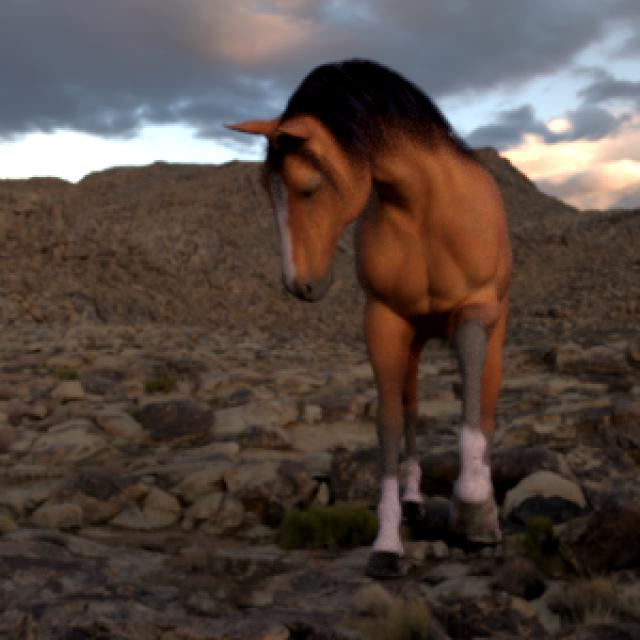horse: (231, 60, 511, 577)
